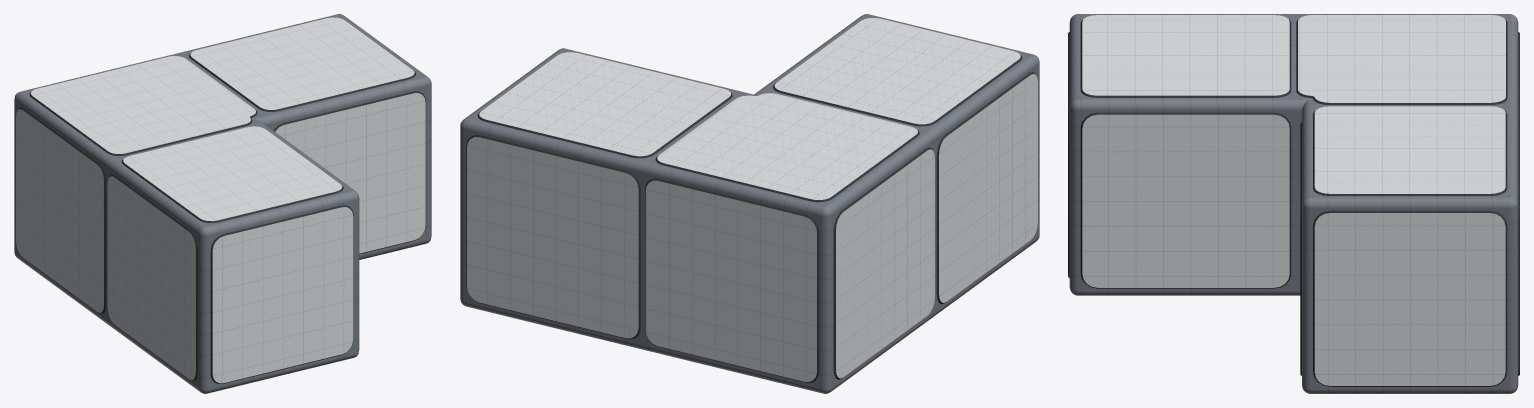
The model's file is R4B_CornerL3.glb.
The picture shows the model from 3 angles, left to right: view 1: azimuth 30°, elevation 25°; view 2: azimuth 150°, elevation 25°; view 3: azimuth 270°, elevation 25°; orthographic projection. The views are drawn at different scales.
Parts seen in each view (by area): view 1: R4B_CornerL3; view 2: R4B_CornerL3; view 3: R4B_CornerL3.
Part boxes in pixels (x1,y1,x2,y2): R4B_CornerL3: [14, 14, 431, 393]; R4B_CornerL3: [460, 14, 1039, 393]; R4B_CornerL3: [1068, 14, 1519, 393].
Size of the model in its own units: 1.07 by 0.52 by 1.07.
3 materials, 3 textured.
